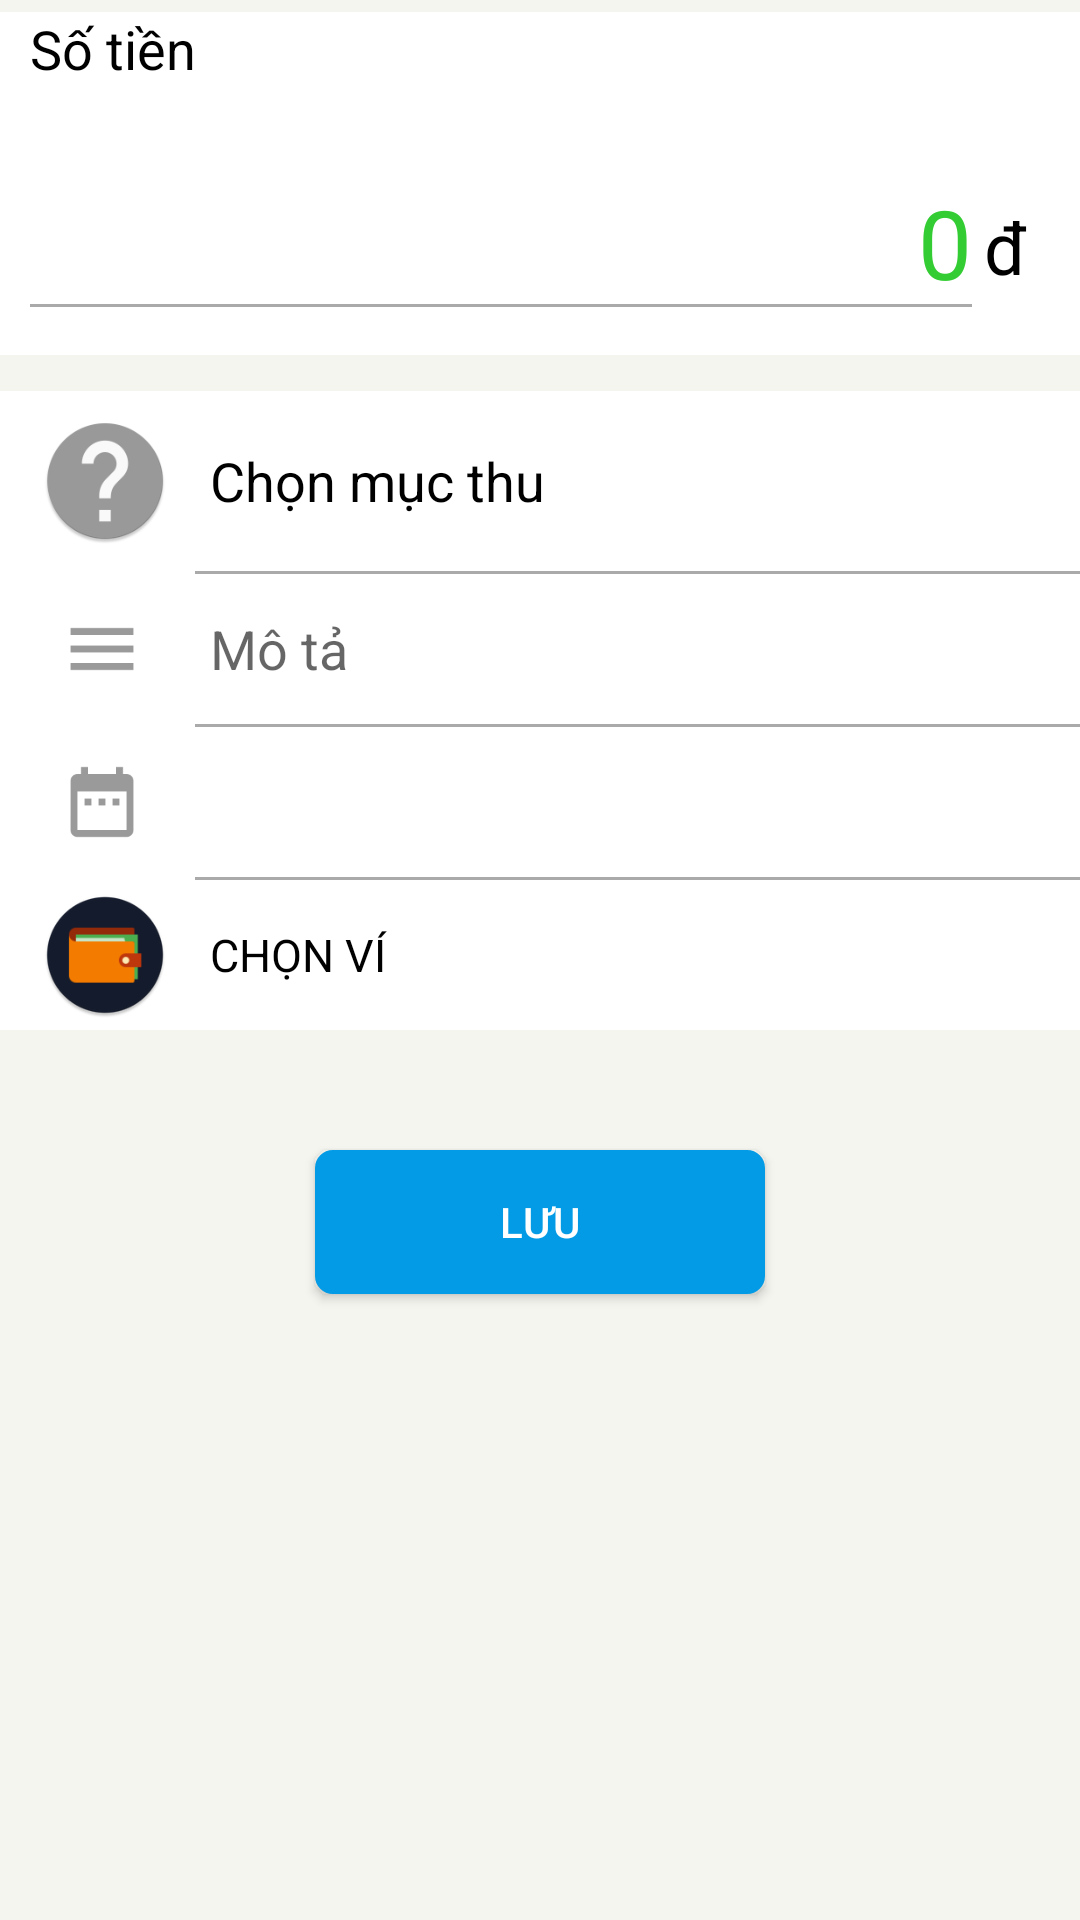

Locate icon controls on the screen. Image size 1080×1920, boxes as (x1, y1, x2, y2).
chamhoi: (47, 423, 163, 542)
lich: (70, 767, 134, 837)
mota: (70, 628, 134, 670)
